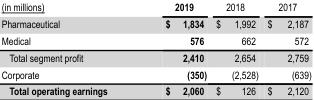table: (0, 0, 310, 96)
table column: (0, 0, 135, 96), (135, 0, 210, 96), (210, 0, 262, 96), (262, 0, 310, 96)
table column header: (0, 0, 310, 15)
table row: (0, 31, 310, 48), (0, 48, 310, 65), (0, 65, 310, 82), (0, 15, 310, 31), (0, 0, 310, 15), (0, 82, 310, 96)
